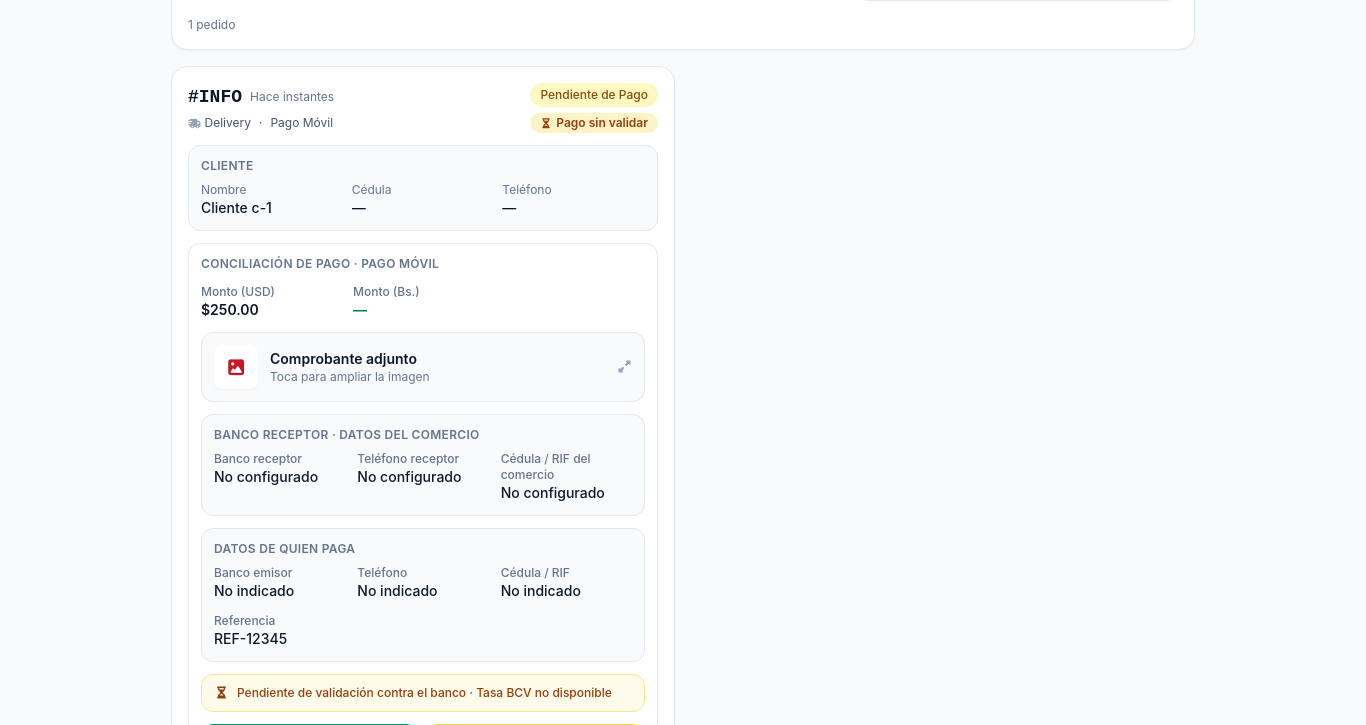
Test: MerchantDashboardPage › muestra la información del pedido en el lightbox del comprobante
(page scrolled)
Click the button with test id "proof-button-info-1" at (423, 367), box [201,332,645,402]
(page scrolled)
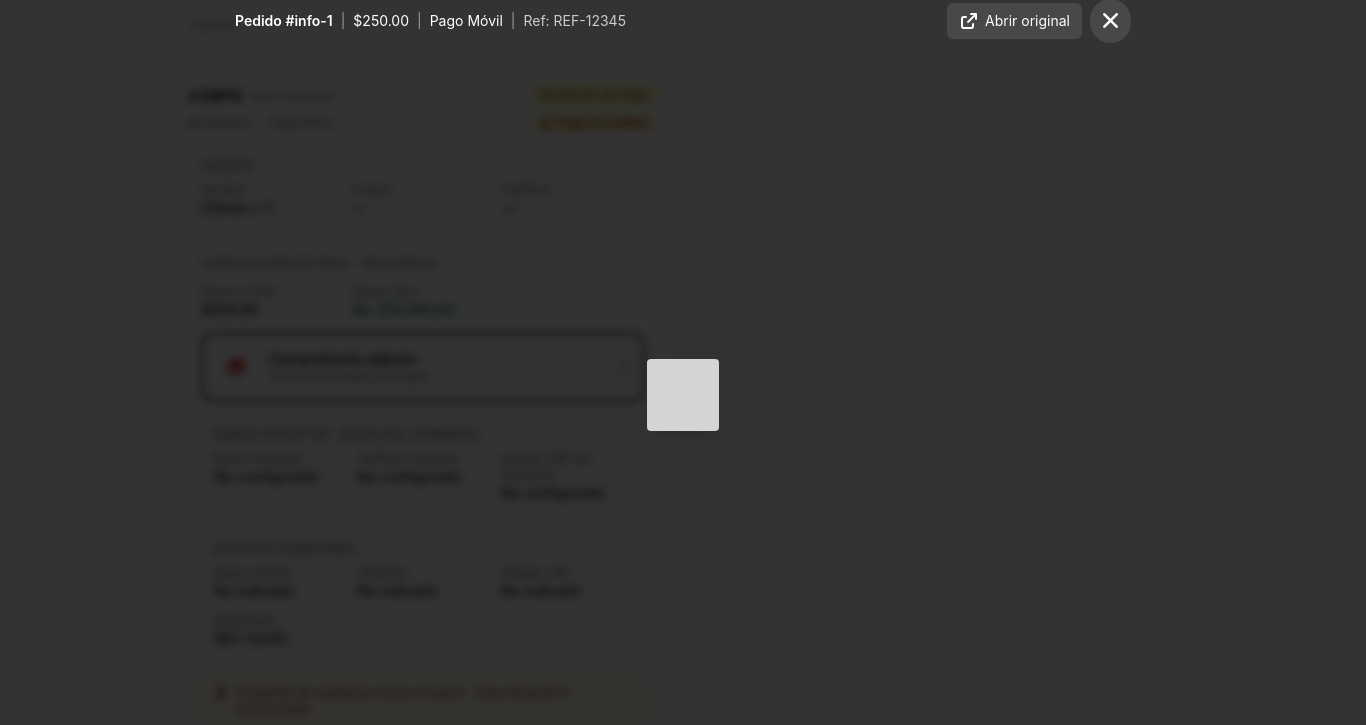
Now the text "Pedido #info-1" is shown, box [235,12,333,29]
Now the text "$250.00" is shown, box [353,12,409,29]
Now the text "Pago Móvil" is shown, box [430,12,503,29]
